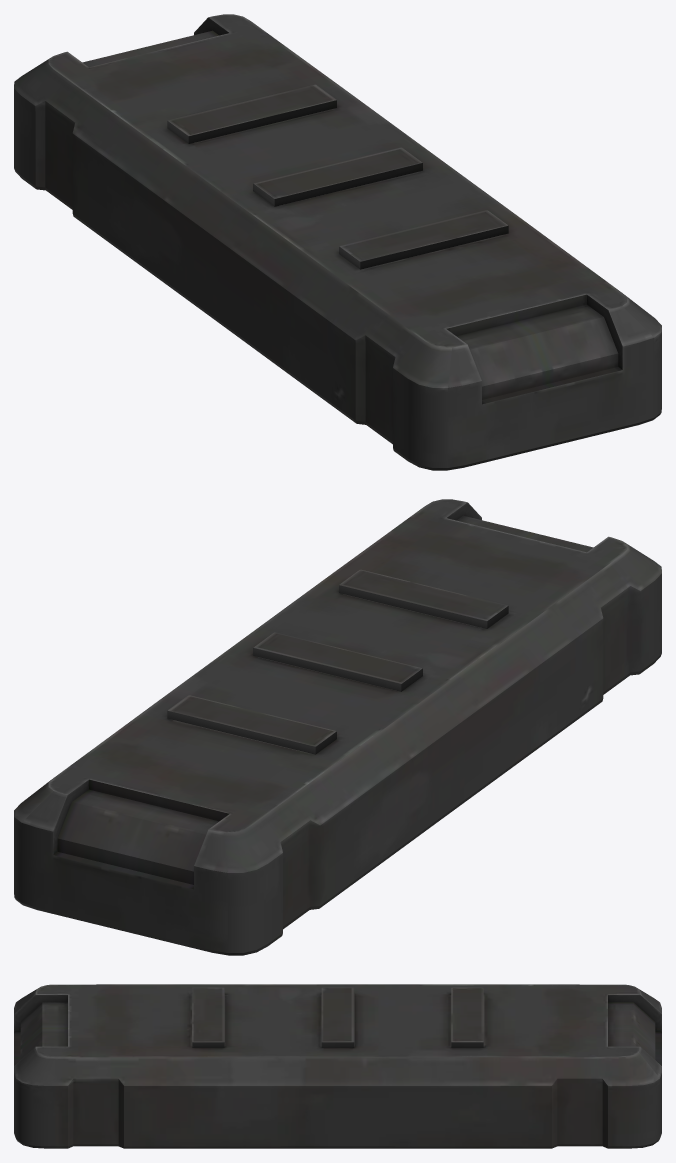
The picture shows the model from 3 angles, top to bottom: view 1: azimuth 30°, elevation 25°; view 2: azimuth 150°, elevation 25°; view 3: azimuth 270°, elevation 25°; orthographic projection. The views are drawn at different scales.
Visible parts, largest first — view 1: body0_model0_lod0_mesh0; view 2: body0_model0_lod0_mesh0; view 3: body0_model0_lod0_mesh0.
Part boxes in pixels (x1=…): body0_model0_lod0_mesh0: x1=14, y1=14, x2=661, y2=470; body0_model0_lod0_mesh0: x1=14, y1=499, x2=661, y2=955; body0_model0_lod0_mesh0: x1=14, y1=984, x2=661, y2=1148.
Size of the model in its own units: 40.05 by 18.08 by 120.
Materials: 1 (1 with a texture image).
